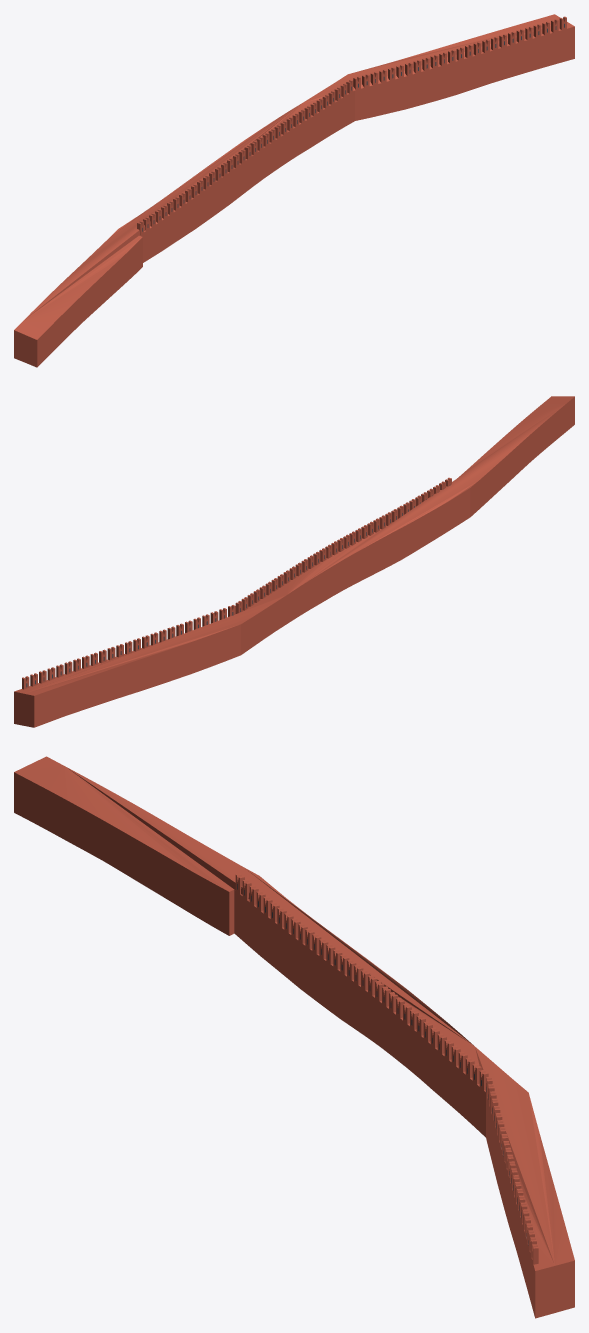
Rendered from moscow-kremlin-wall-annunciation-taynitskaya.glb.
3 renders of one model, top to bottom at view 1: azimuth 30°, elevation 25°; view 2: azimuth 210°, elevation 25°; view 3: azimuth 270°, elevation 25°, orthographic. The views are drawn at different scales.
Parts seen in each view (by area): view 1: Kremlin Wall, Annunciation Tower to Taynitskaya Tower; view 2: Kremlin Wall, Annunciation Tower to Taynitskaya Tower; view 3: Kremlin Wall, Annunciation Tower to Taynitskaya Tower.
Part boxes in pixels (x1=…): Kremlin Wall, Annunciation Tower to Taynitskaya Tower: x1=14, y1=14, x2=574, y2=367; Kremlin Wall, Annunciation Tower to Taynitskaya Tower: x1=14, y1=396, x2=574, y2=727; Kremlin Wall, Annunciation Tower to Taynitskaya Tower: x1=14, y1=756, x2=574, y2=1318.
Size of the model in its own units: 156 by 11.18 by 71.1.
